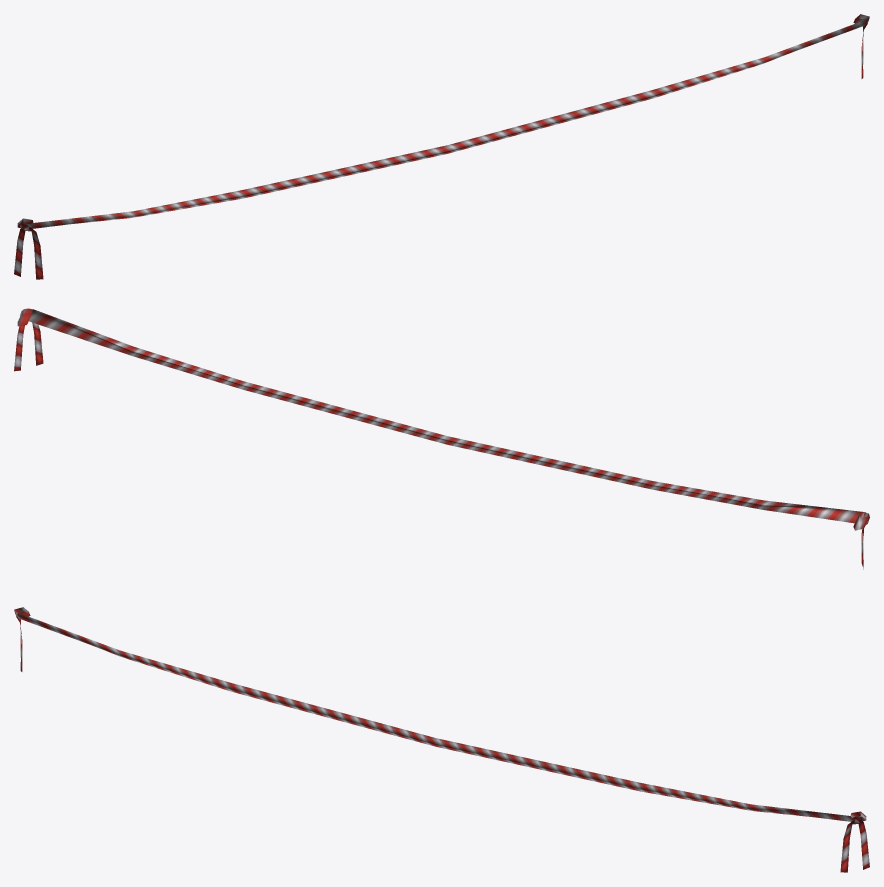
Rendered from jsf_2P_String_s01_03.fbx.
3 views of the same model, one above another, from view 1: azimuth 30°, elevation 25°; view 2: azimuth 150°, elevation 25°; view 3: azimuth 330°, elevation 25° (orthographic).
Parts seen in each view (by area): view 1: jsf_2P_String_s01_03; view 2: jsf_2P_String_s01_03; view 3: jsf_2P_String_s01_03.
Boxes of the visible parts, x1,y1,x2,y2 form: jsf_2P_String_s01_03: (14,14,869,279); jsf_2P_String_s01_03: (14,308,869,569); jsf_2P_String_s01_03: (14,607,869,872).
Size of the model in its own units: 150 by 9.72 by 4.94.
